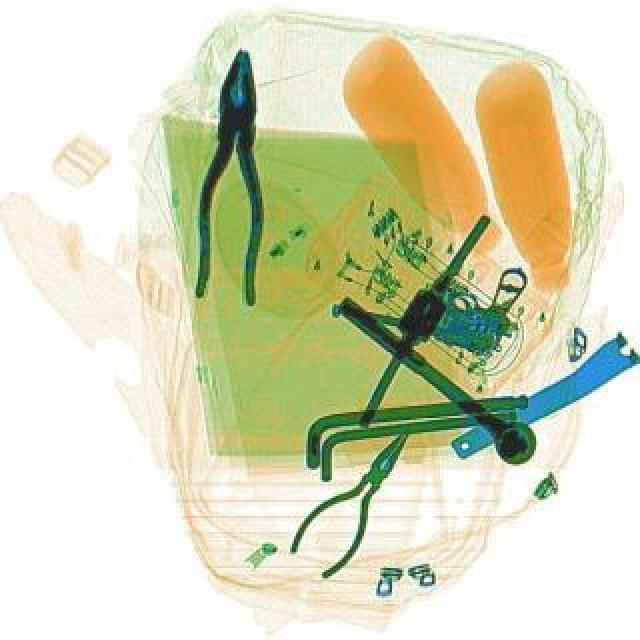gun: (326, 230, 530, 360)
wrench: (278, 410, 436, 582), (190, 46, 274, 306)
